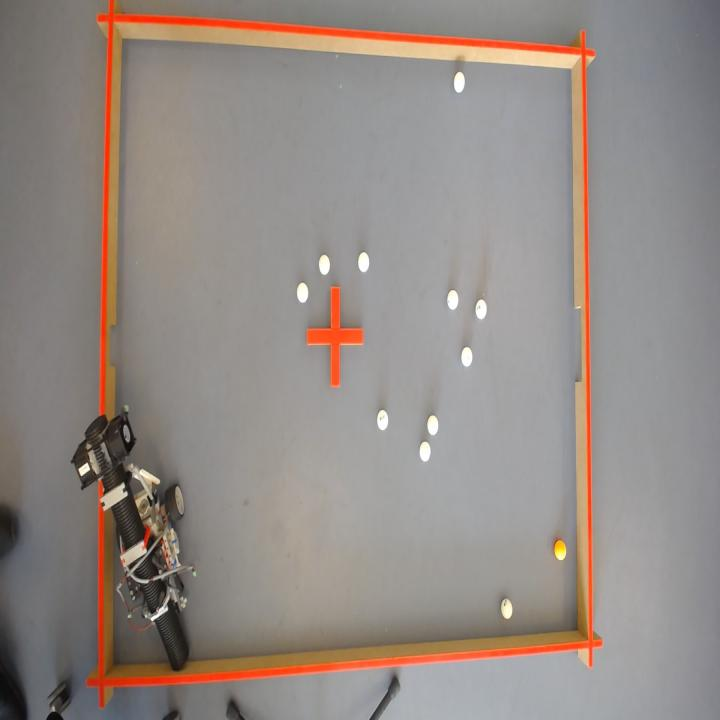orange: (555, 540, 567, 561)
robot: (72, 406, 193, 672)
white: (297, 281, 309, 302), (454, 69, 465, 91), (476, 298, 488, 318), (319, 253, 330, 274), (428, 414, 439, 435), (377, 409, 388, 430), (358, 251, 369, 271), (448, 289, 459, 309), (462, 346, 473, 366), (420, 441, 431, 461), (502, 599, 513, 619)
